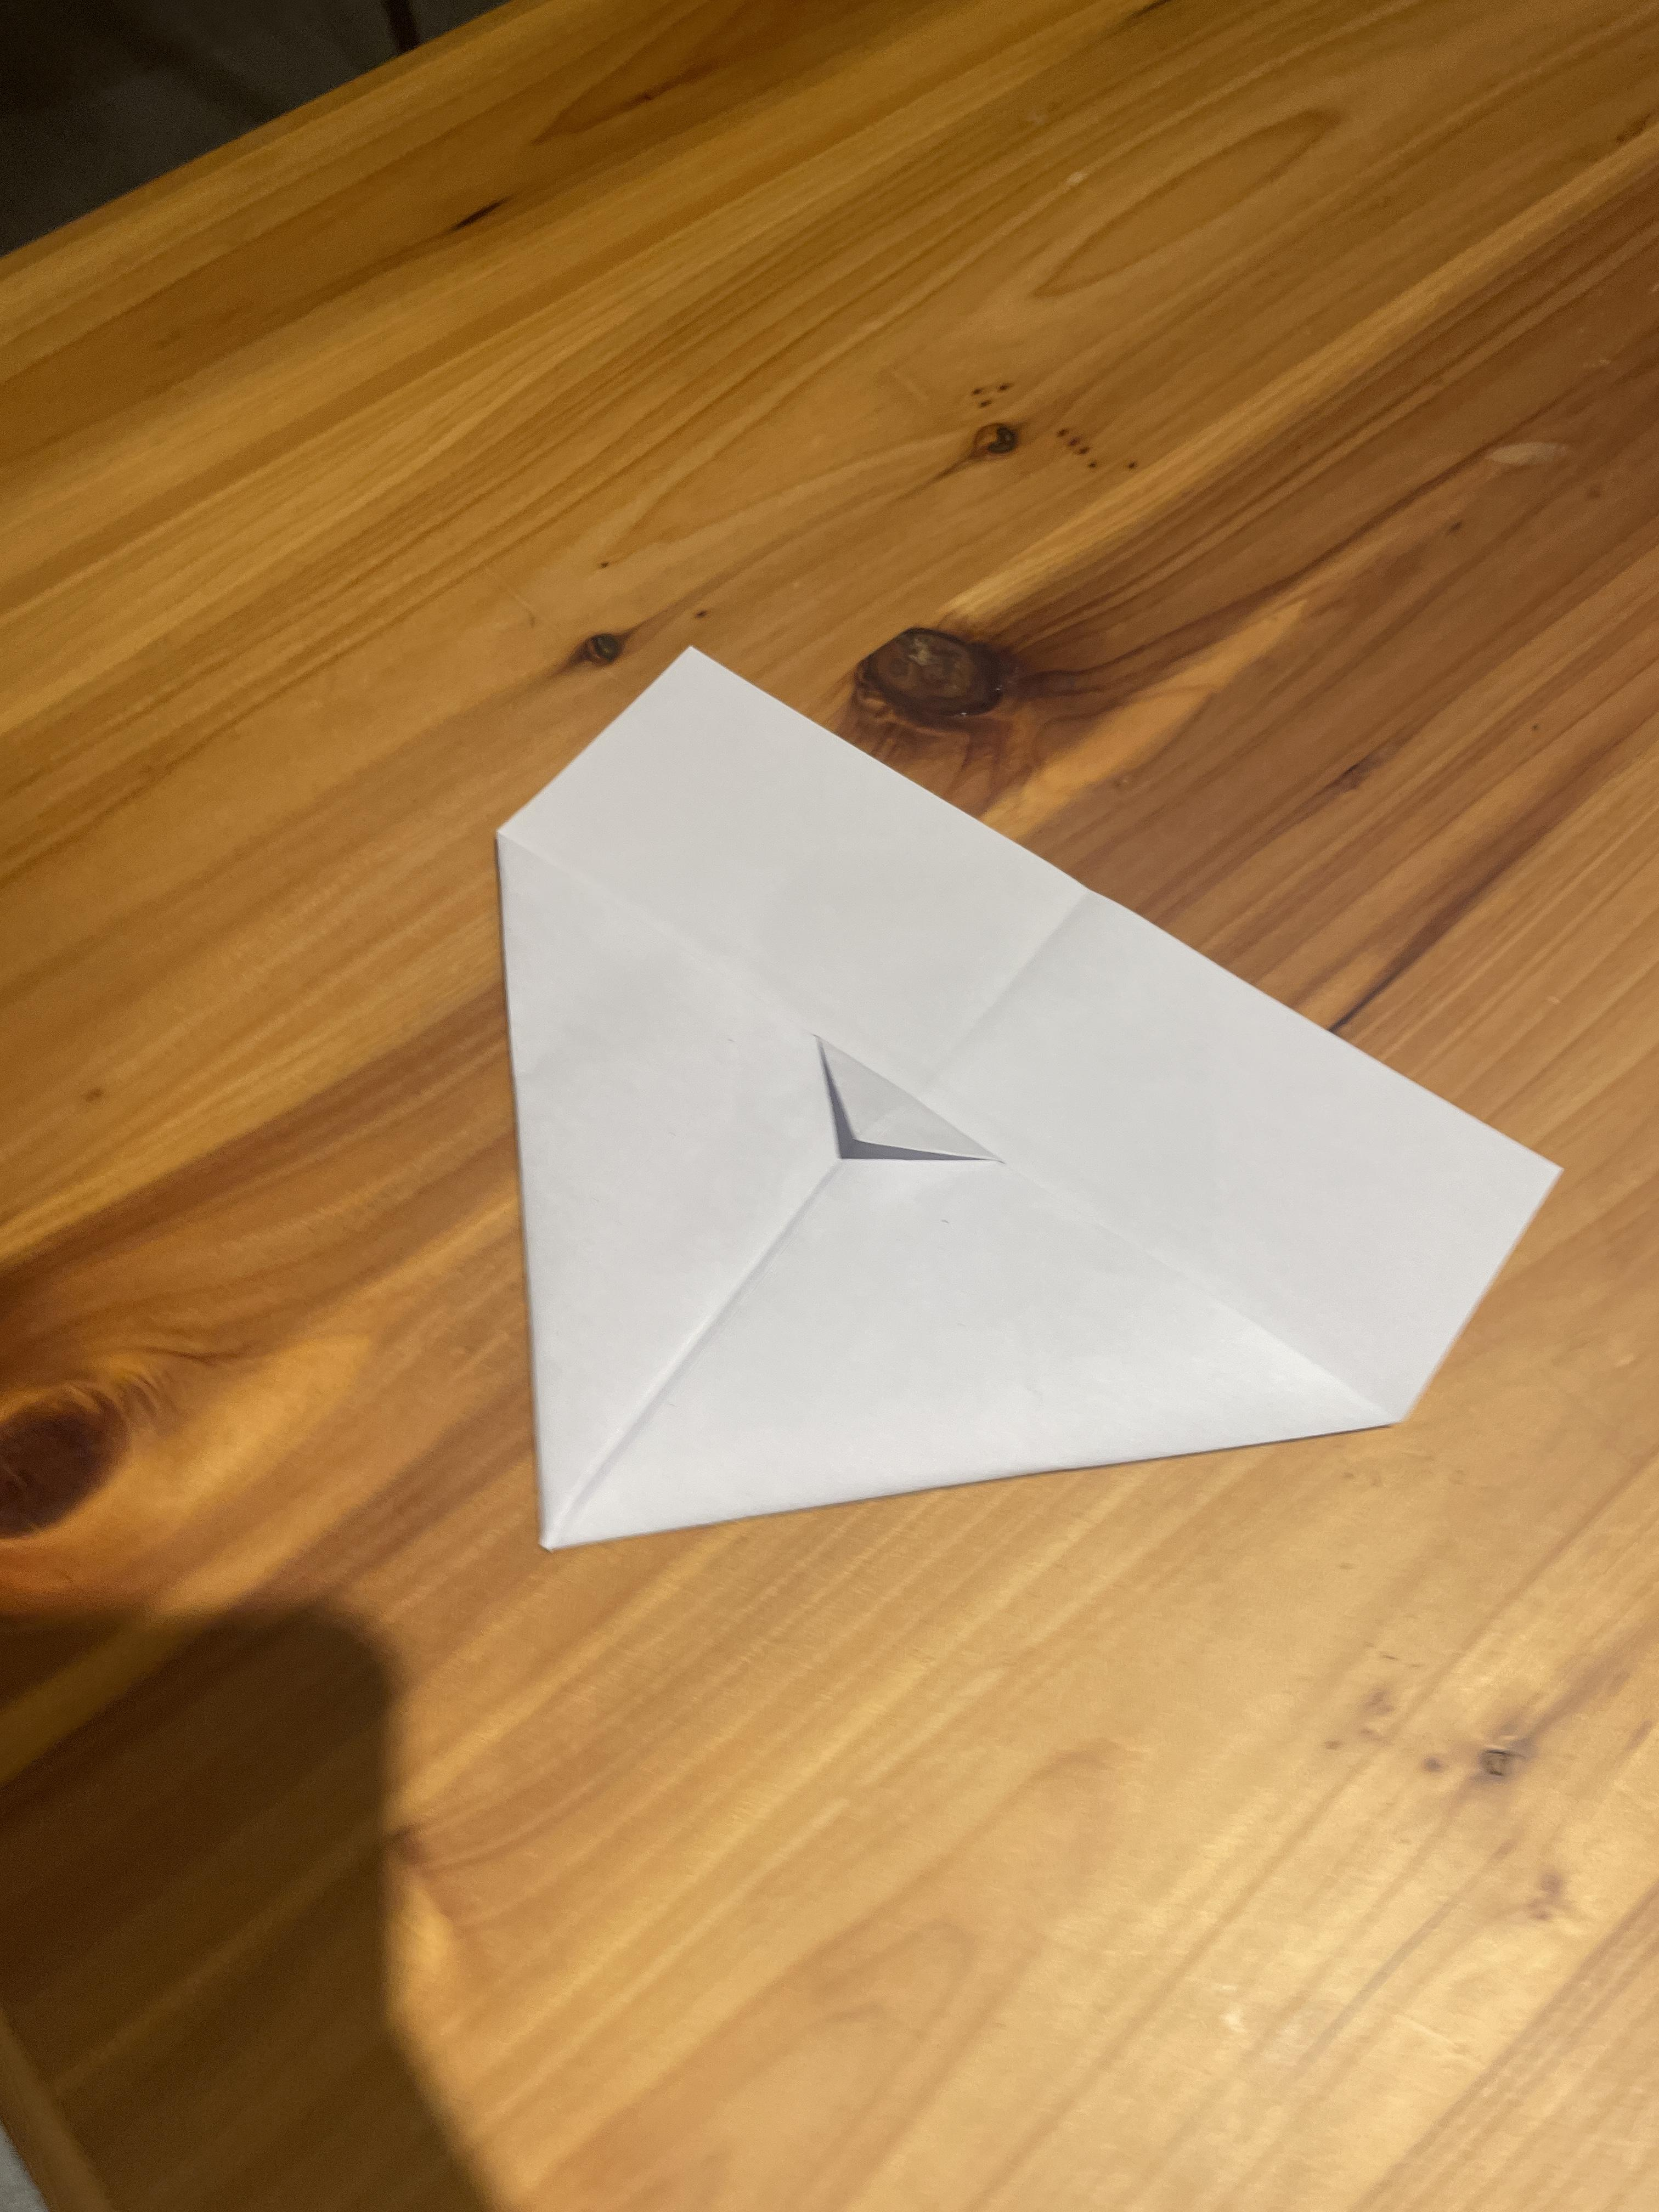shape_2: (357, 479, 1610, 1604)
